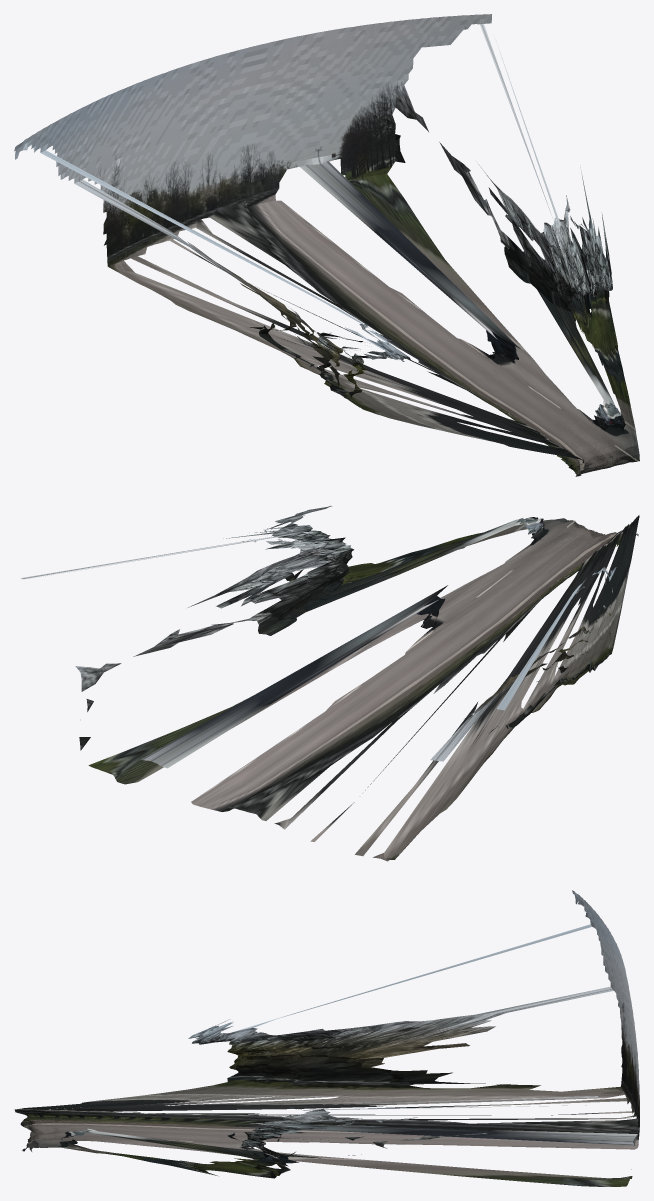
3 views of the same model, one above another, from view 1: azimuth 30°, elevation 25°; view 2: azimuth 150°, elevation 25°; view 3: azimuth 270°, elevation 25° (orthographic). The views are drawn at different scales.
Visible parts, largest first — view 1: defaultobject; view 2: defaultobject; view 3: defaultobject.
Part boxes in pixels (bbox=[...]): defaultobject: bbox=[14, 14, 639, 476]; defaultobject: bbox=[21, 506, 639, 861]; defaultobject: bbox=[14, 890, 639, 1186].
Bounding box in the file's own units: 35.23 × 12.74 × 45.21.
1 material, 1 textured.
